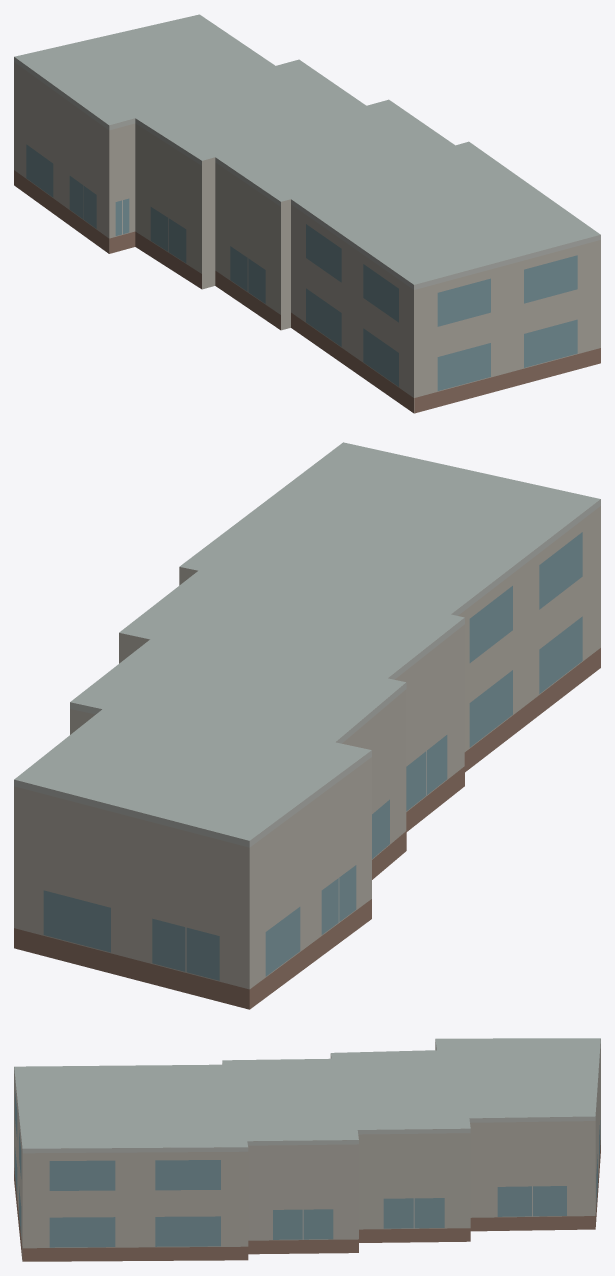
File: survey-upis-32766928.glb
The picture shows the model from 3 angles, top to bottom: view 1: azimuth 30°, elevation 25°; view 2: azimuth 150°, elevation 25°; view 3: azimuth 270°, elevation 25°; orthographic projection. The views are drawn at different scales.
Parts seen in each view (by area): view 1: survey-upis-32766928.tmp; view 2: survey-upis-32766928.tmp; view 3: survey-upis-32766928.tmp.
Boxes of the visible parts, x1,y1,x2,y2 form: survey-upis-32766928.tmp: [14, 14, 600, 413]; survey-upis-32766928.tmp: [14, 442, 600, 1009]; survey-upis-32766928.tmp: [14, 1038, 600, 1261].
Size of the model in its own units: 12.8 by 6.1 by 28.71.
